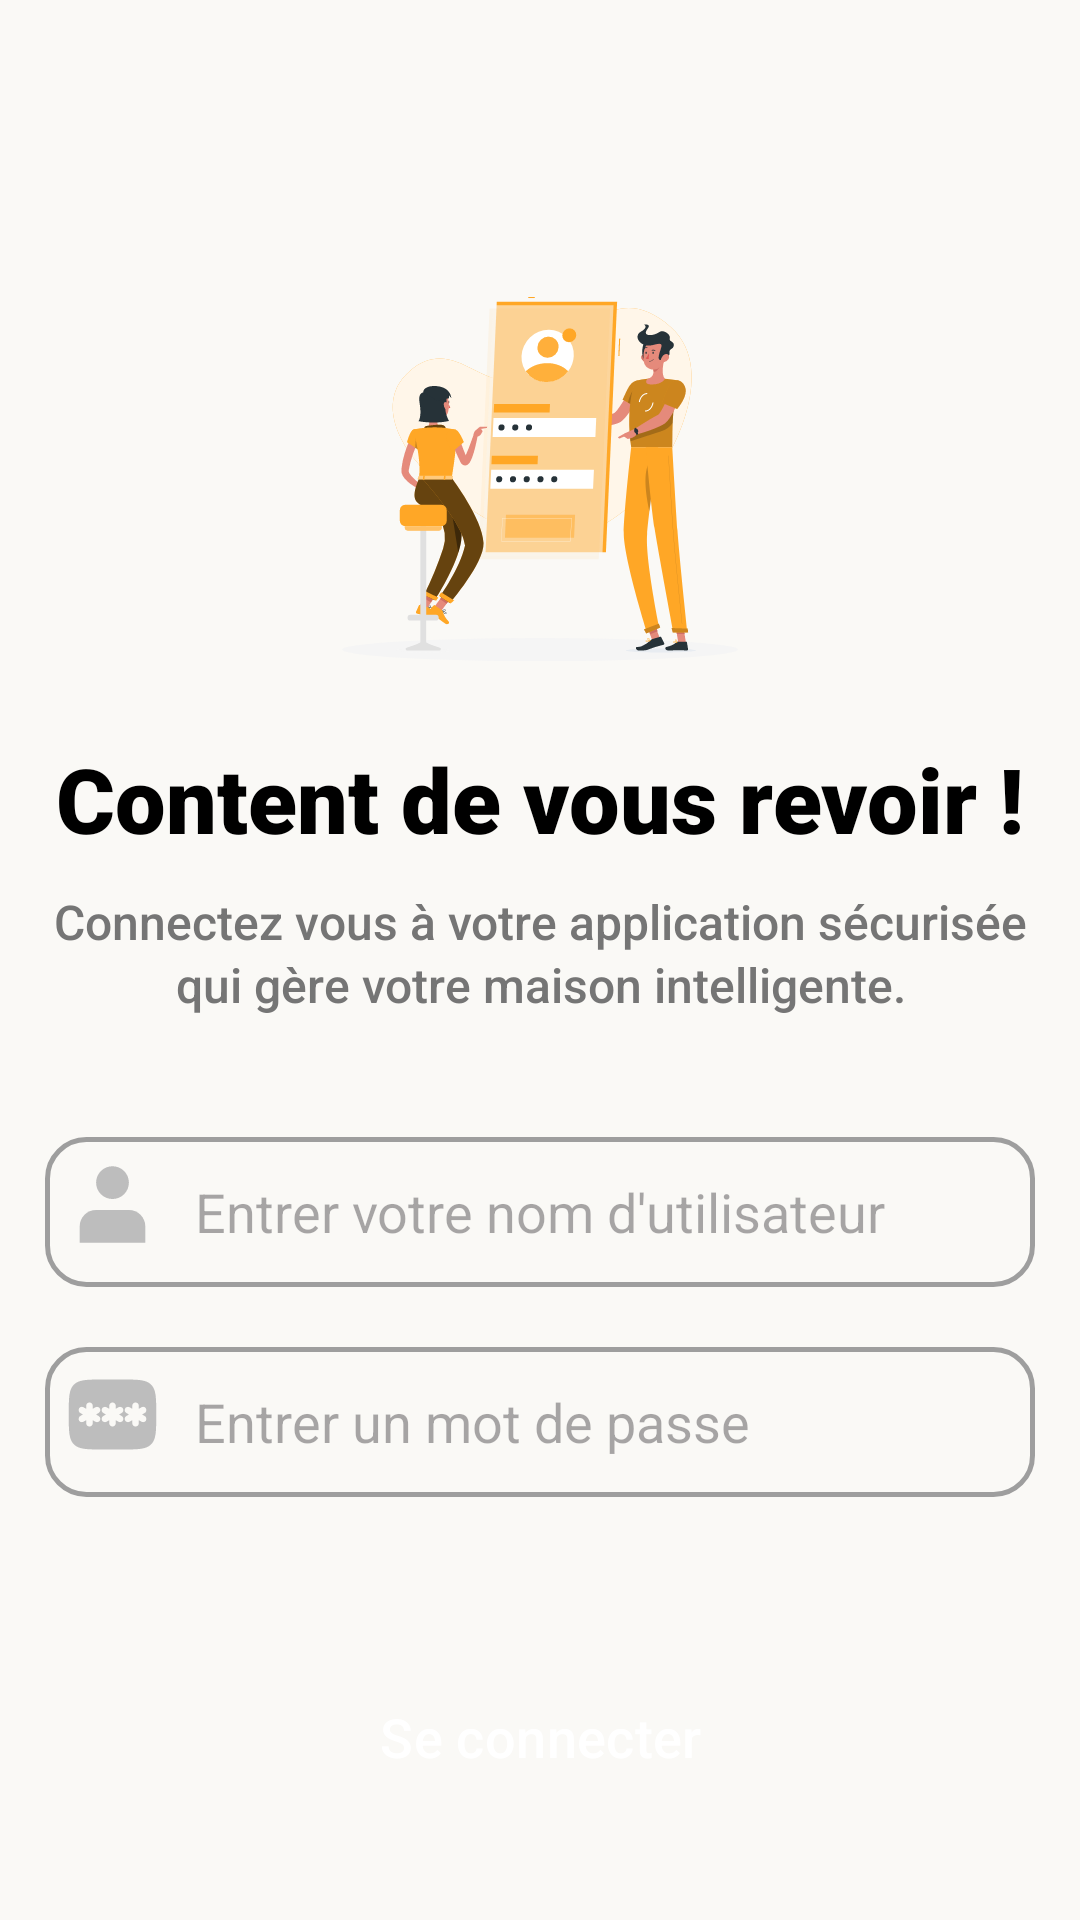

Named icons in this screenshot (1080x1920) and their bounding boxes, bbox(x1, y1, x2, y2):
password: bbox(69, 1379, 156, 1450)
user: bbox(80, 1166, 145, 1243)
